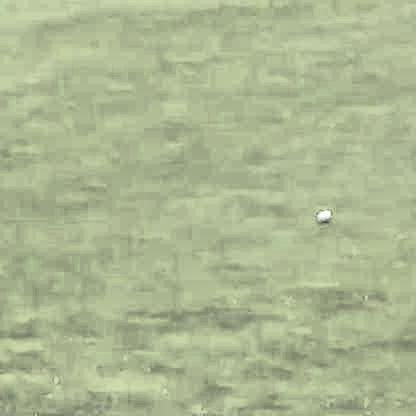golfball: (315, 209, 331, 221)
